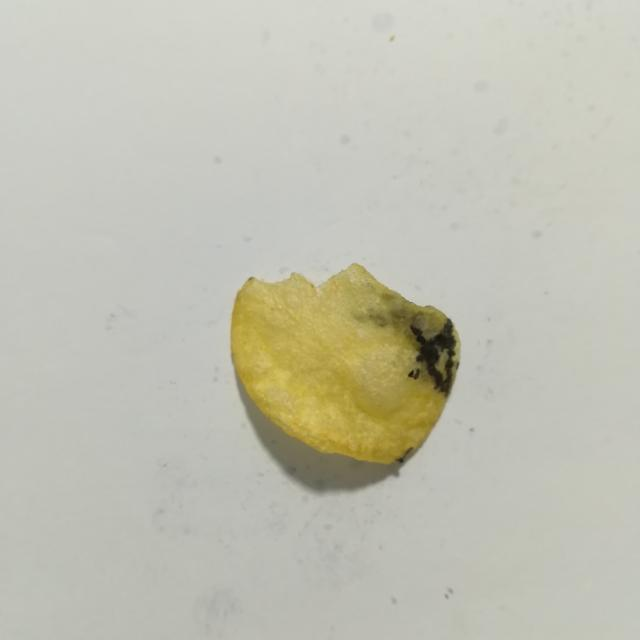chip: (231, 264, 460, 463)
damaged: (410, 318, 456, 397), (408, 369, 419, 379)
semi-damaged: (370, 288, 446, 352)
